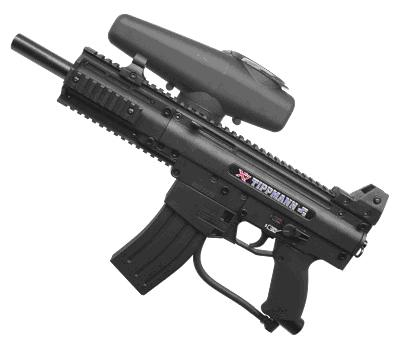rifle: (9, 2, 388, 336)
